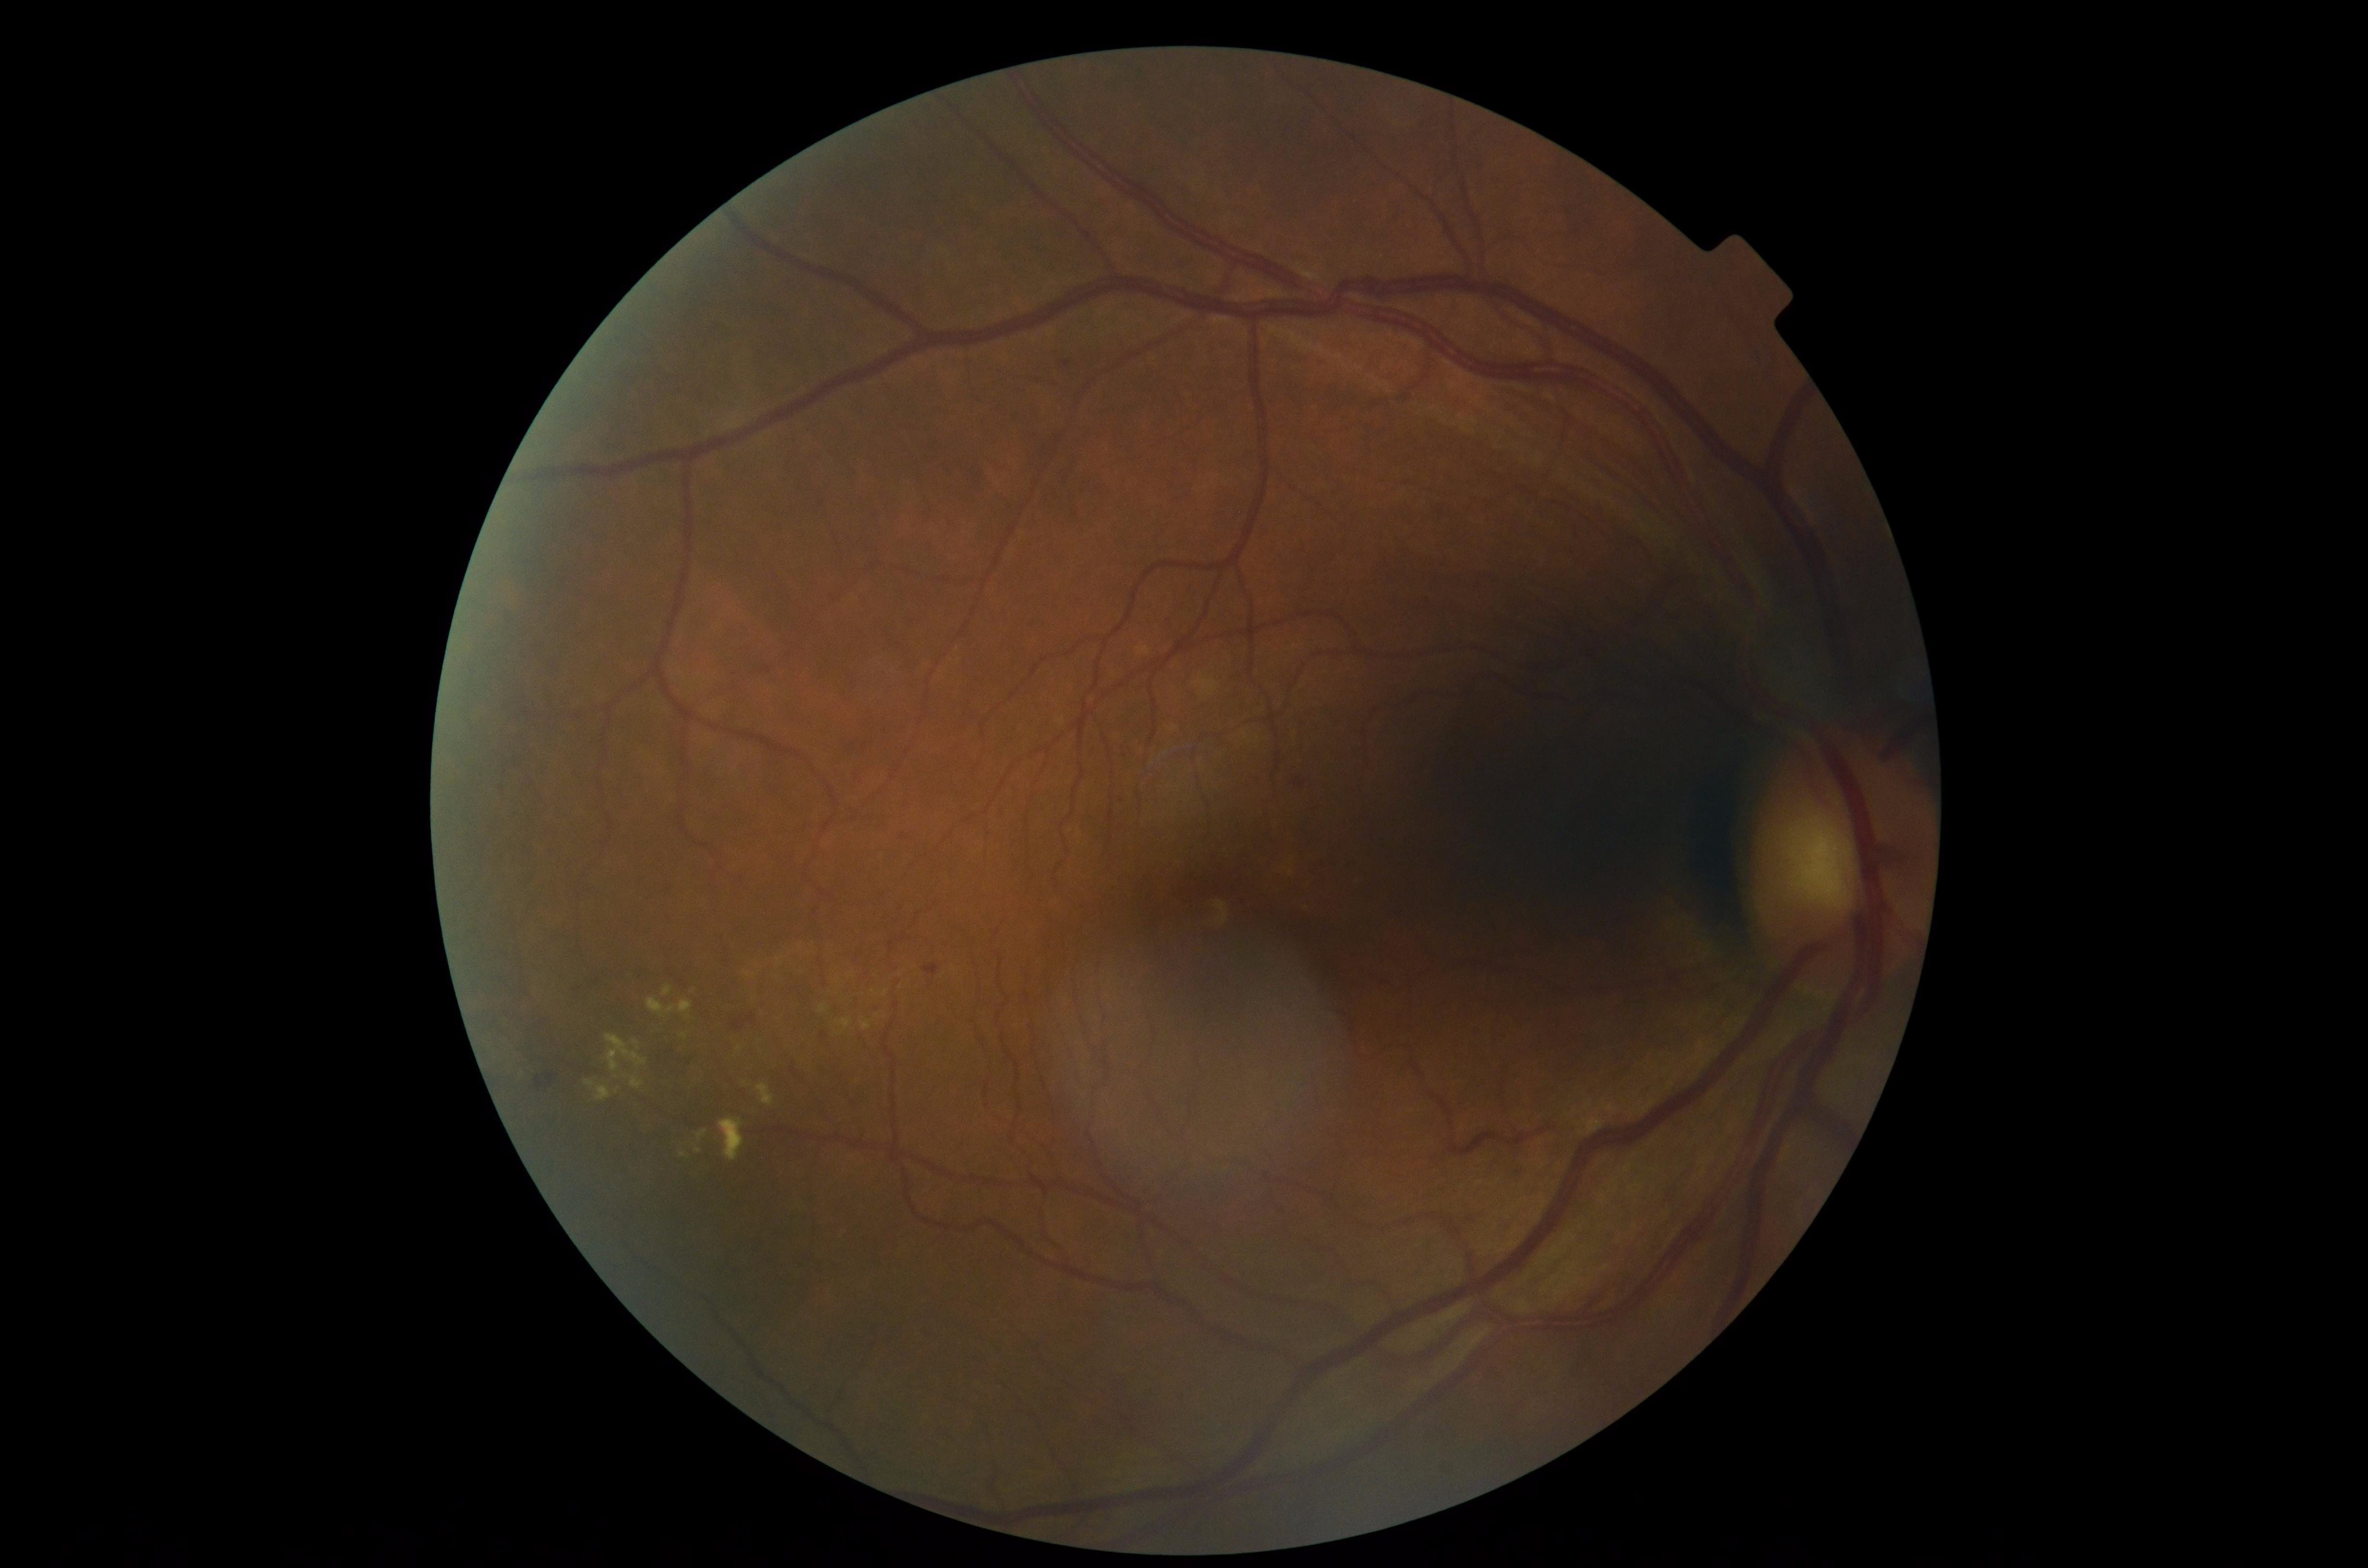Fovea: (1087, 838, 1328, 1020)
OD: (1734, 723, 1941, 1004)
